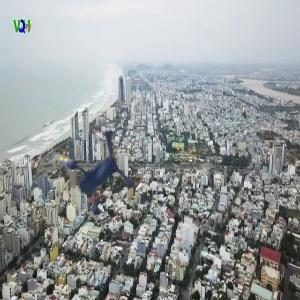drone: (32, 108, 152, 228)
